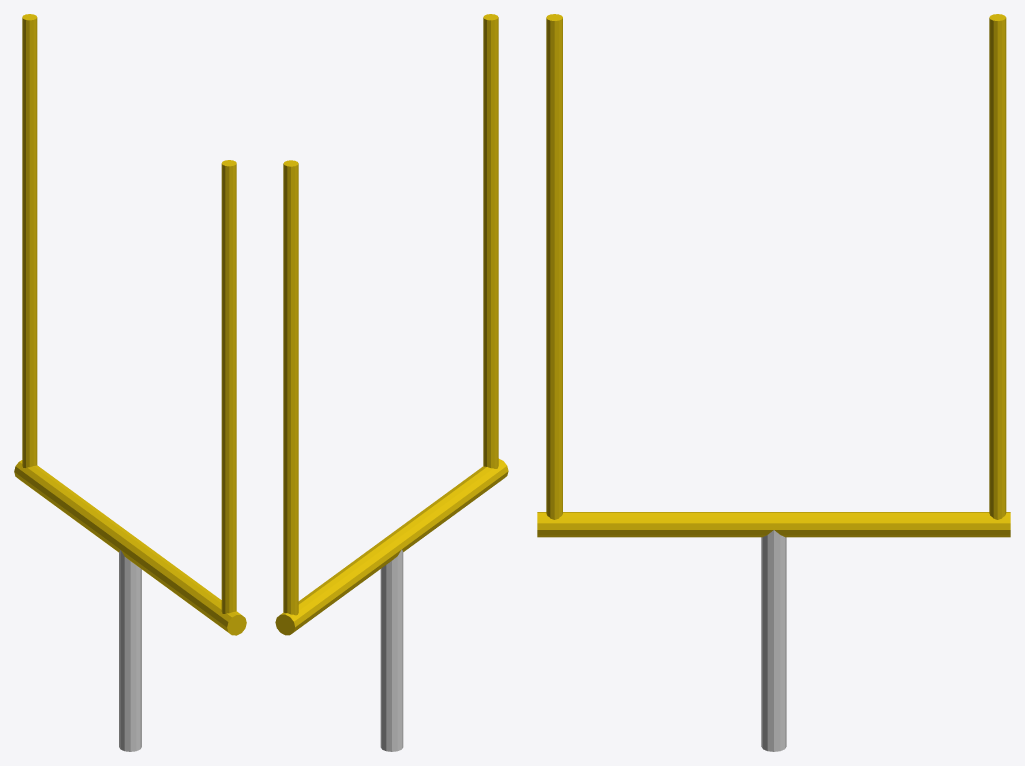
Rendered from postes-americano.fbx.
3 views of the same model, side by side, from view 1: azimuth 30°, elevation 25°; view 2: azimuth 150°, elevation 25°; view 3: azimuth 270°, elevation 25° (orthographic). The views are drawn at different scales.
Visible parts, largest first — view 1: Cylinder.007; view 2: Cylinder.007; view 3: Cylinder.007.
Boxes of the visible parts, x1,y1,x2,y2 form: Cylinder.007: (14, 14, 246, 751); Cylinder.007: (275, 14, 508, 751); Cylinder.007: (537, 14, 1010, 751).
Size of the model in its own units: 30 by 952 by 560.
